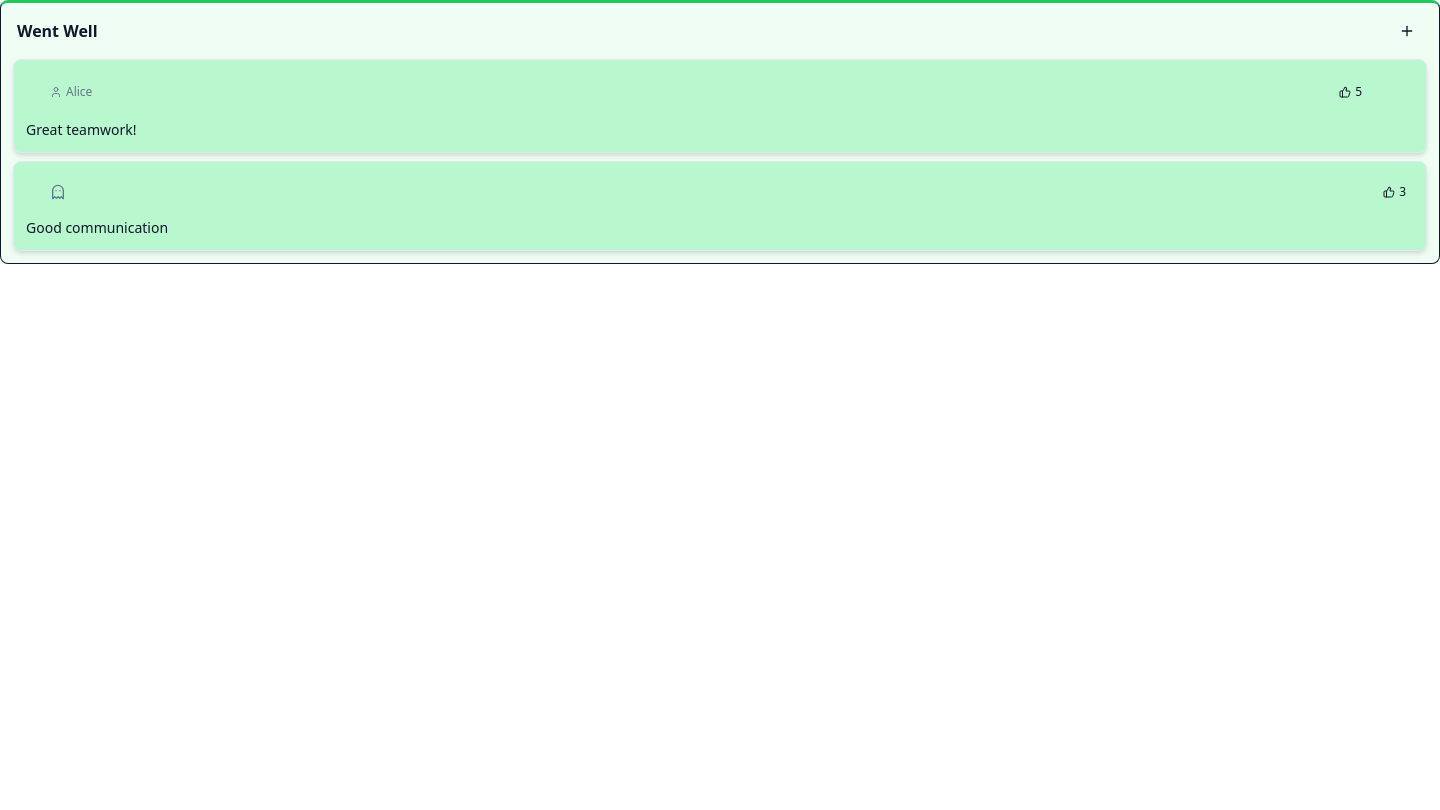
Test case: RetroColumn › Add Card › should open add card dialog when add button is clicked
Click the button named "add card": (1407, 31) [1391,15,1423,47]
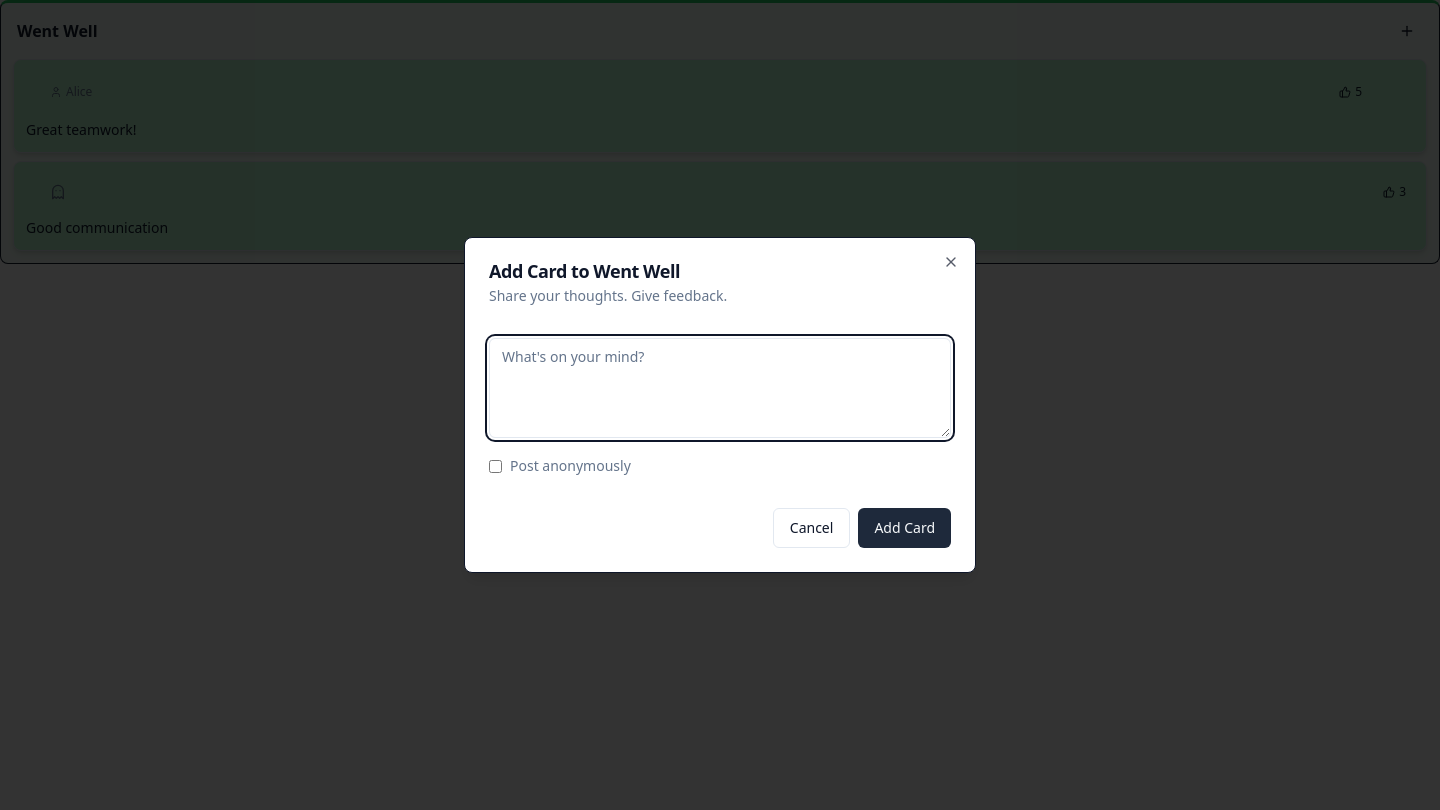
Now the dialog is shown, box [464,237,976,573]
Now the heading "Add Card to Went Well" is shown, box [489,259,680,283]
